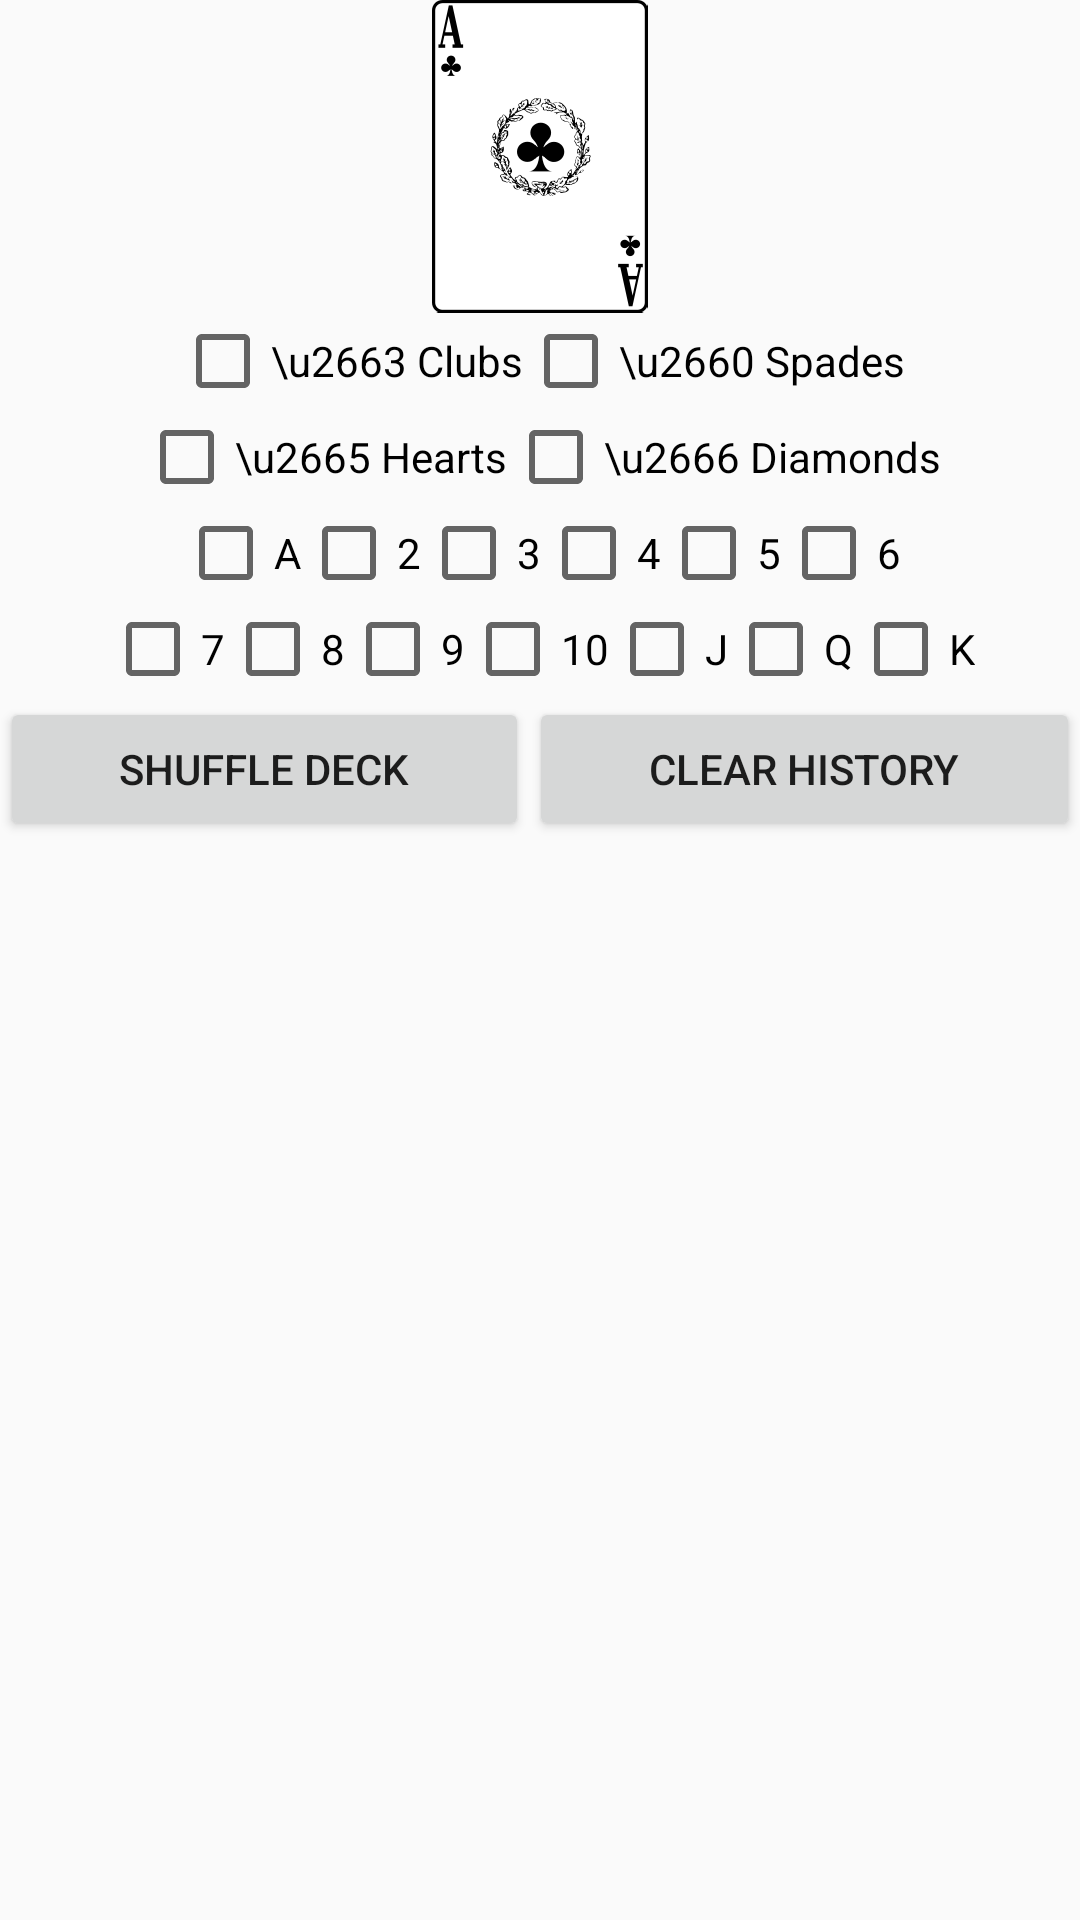

Point at icon controls on the screen. Image size 1080px×1920px, points as [x,y].
card: [540,156]
